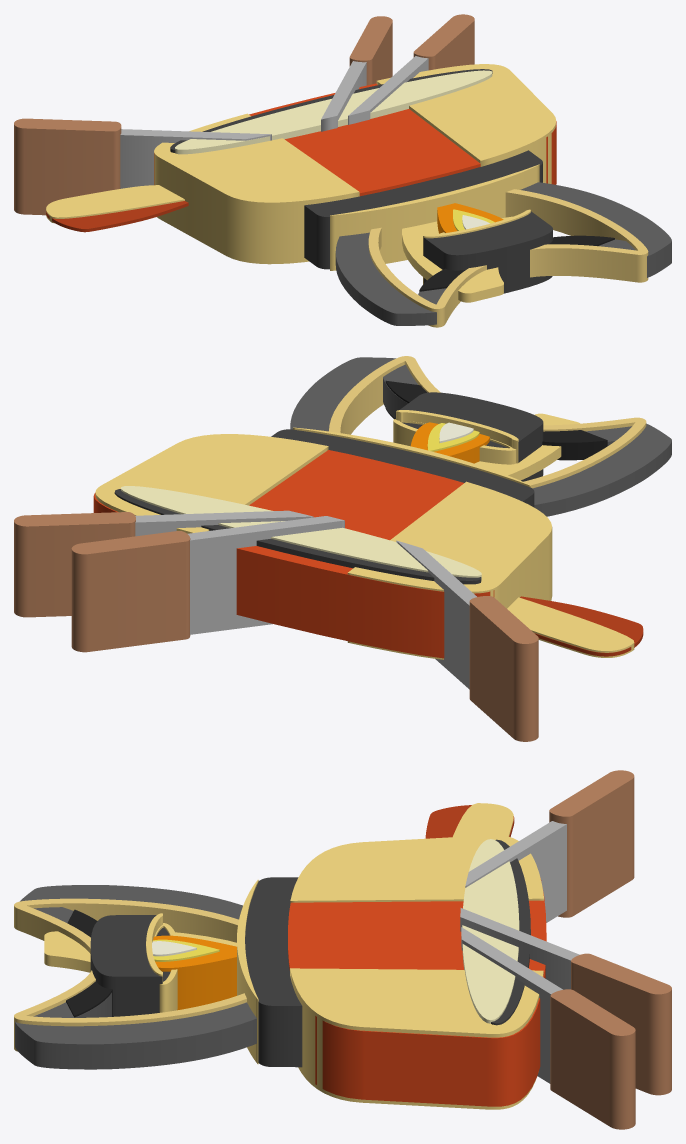
Rendered from emoji_u1fad5.glb.
3 renders of one model, top to bottom at view 1: azimuth 30°, elevation 25°; view 2: azimuth 150°, elevation 25°; view 3: azimuth 270°, elevation 25°, orthographic. The views are drawn at different scales.
Visible parts, largest first — view 1: emoji_u1fad5; view 2: emoji_u1fad5; view 3: emoji_u1fad5.
Part boxes in pixels (bbox=[...]): emoji_u1fad5: bbox=[14, 14, 671, 327]; emoji_u1fad5: bbox=[14, 356, 671, 741]; emoji_u1fad5: bbox=[14, 770, 671, 1129].
Size of the model in its own units: 0.0328 by 0.0056 by 0.0331.
